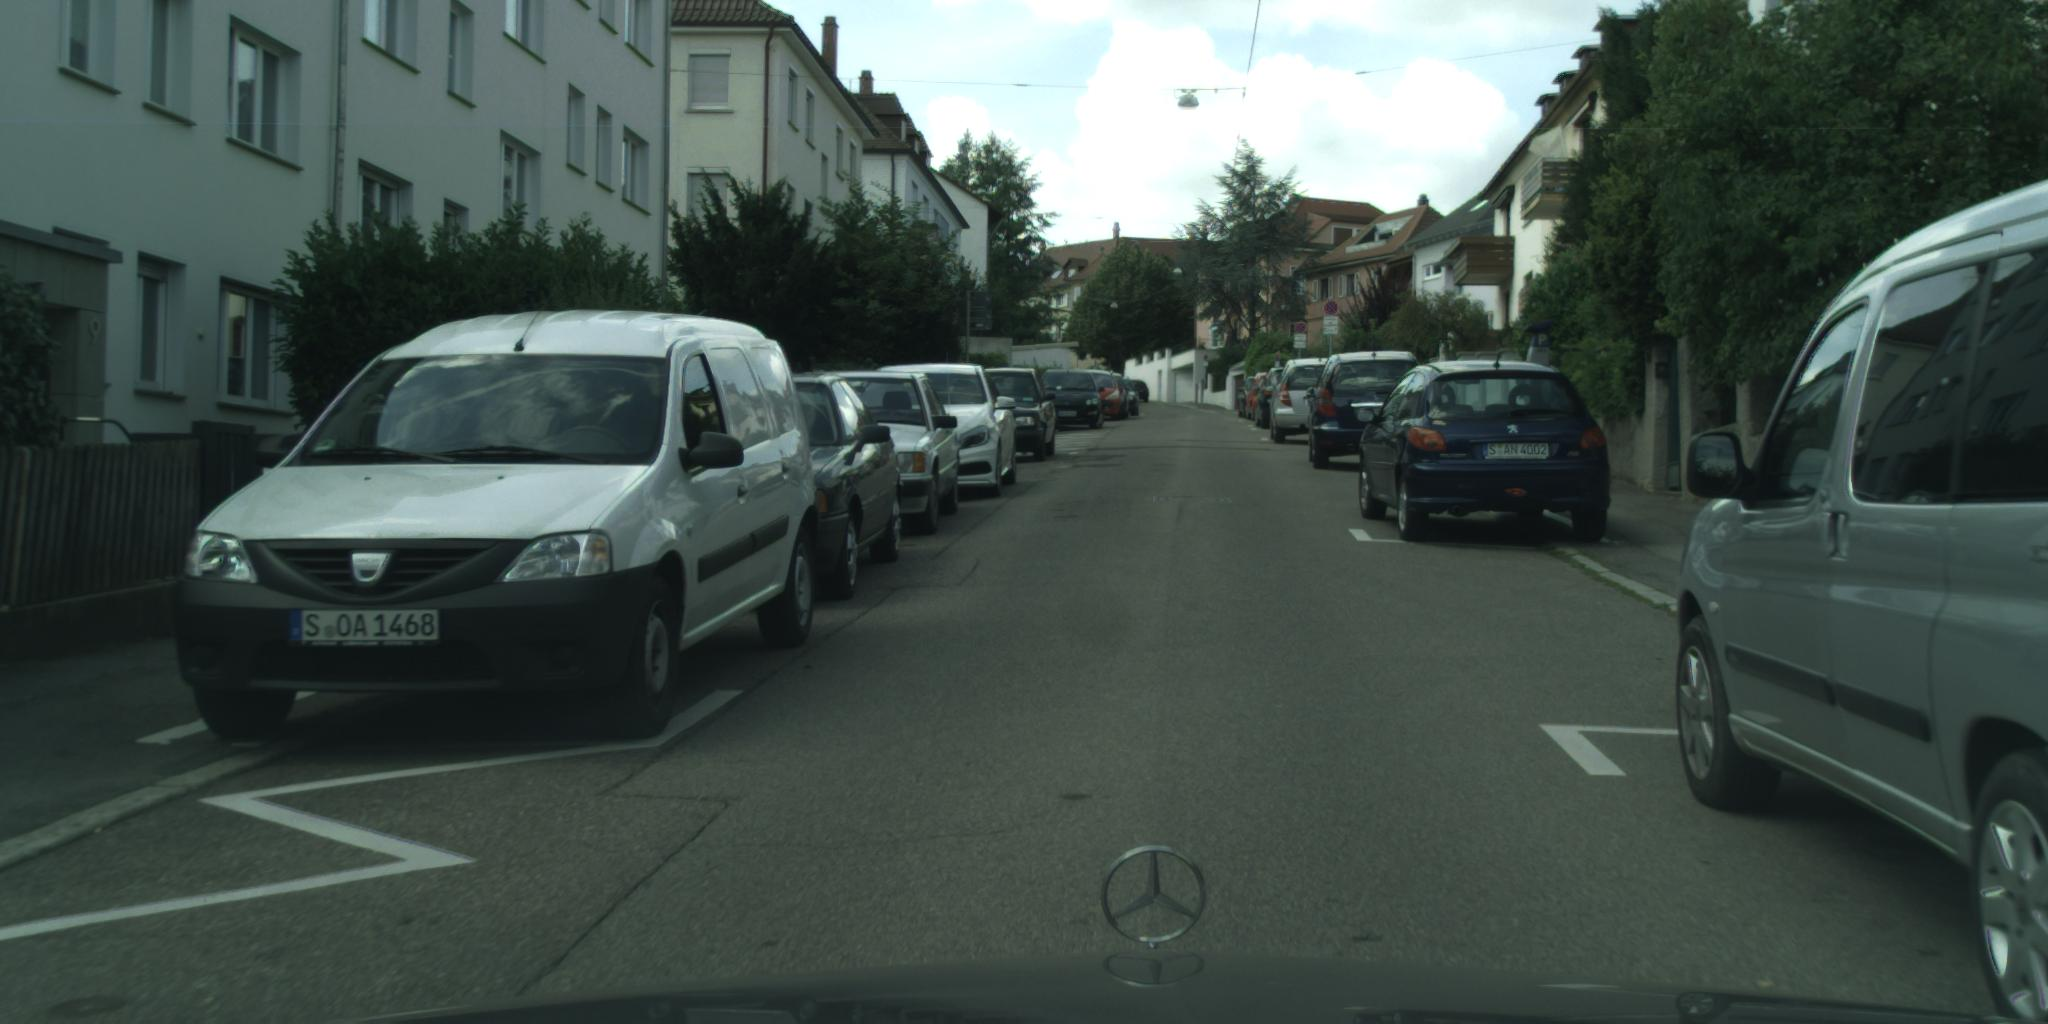car: (1674, 178, 2045, 1024), (172, 310, 822, 743), (1354, 359, 1613, 543), (788, 370, 904, 601), (822, 370, 961, 537), (872, 362, 1020, 499), (1302, 349, 1425, 469), (987, 367, 1061, 462), (1262, 357, 1339, 445), (1042, 370, 1108, 430), (1254, 368, 1288, 430), (1115, 374, 1139, 417), (1123, 377, 1156, 405)
